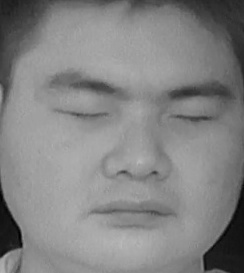blink: (57, 95, 111, 130), (169, 100, 218, 133)
mouth: (92, 188, 181, 231)
